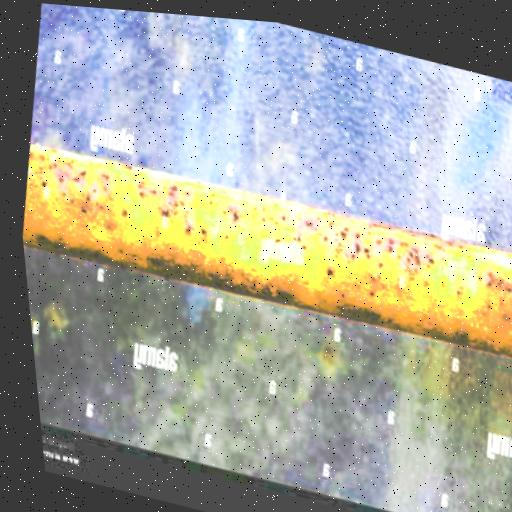corrosion: (13, 134, 512, 373)
